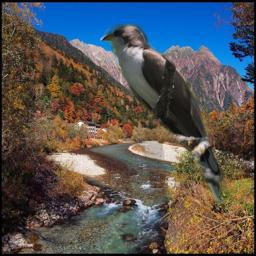Cuckoo: (100, 24, 237, 205)
